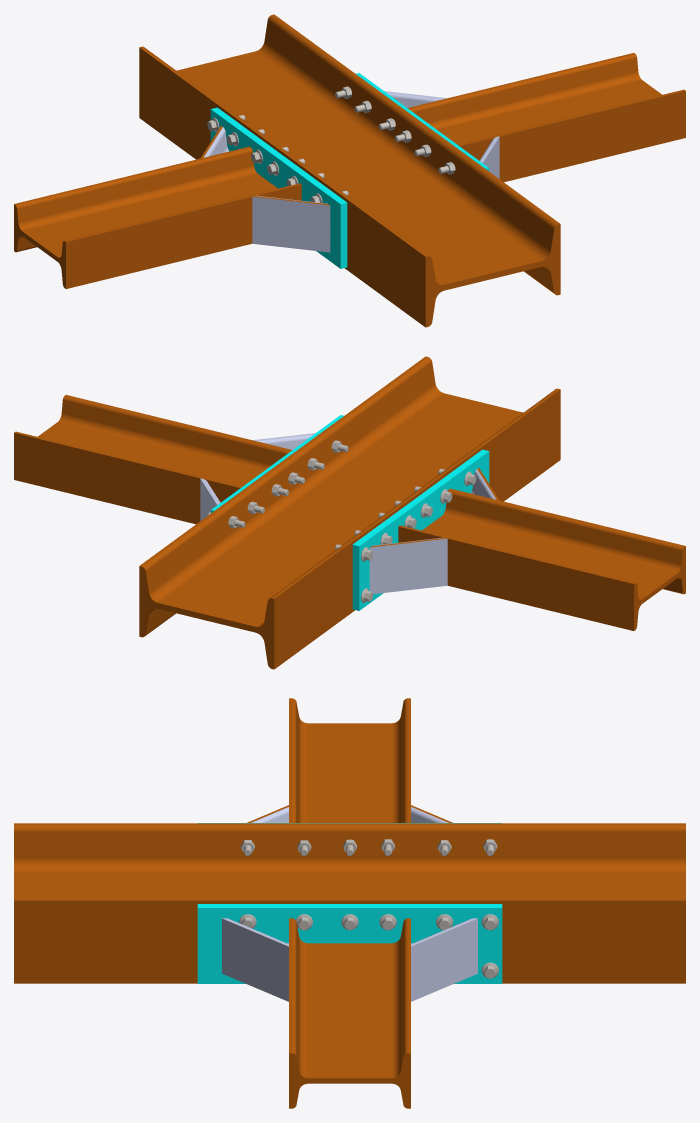
3 views of the same model, one above another, from view 1: azimuth 30°, elevation 25°; view 2: azimuth 150°, elevation 25°; view 3: azimuth 270°, elevation 25° (orthographic). The views are drawn at different scales.
Parts seen in each view (by area): view 1: Assem1.IGS; view 2: Assem1.IGS; view 3: Assem1.IGS.
Part boxes in pixels (bbox=[...]): Assem1.IGS: bbox=[14, 14, 685, 327]; Assem1.IGS: bbox=[14, 356, 685, 669]; Assem1.IGS: bbox=[14, 698, 685, 1108].
Size of the model in its own units: 0.5509 by 0.06 by 0.4408.
